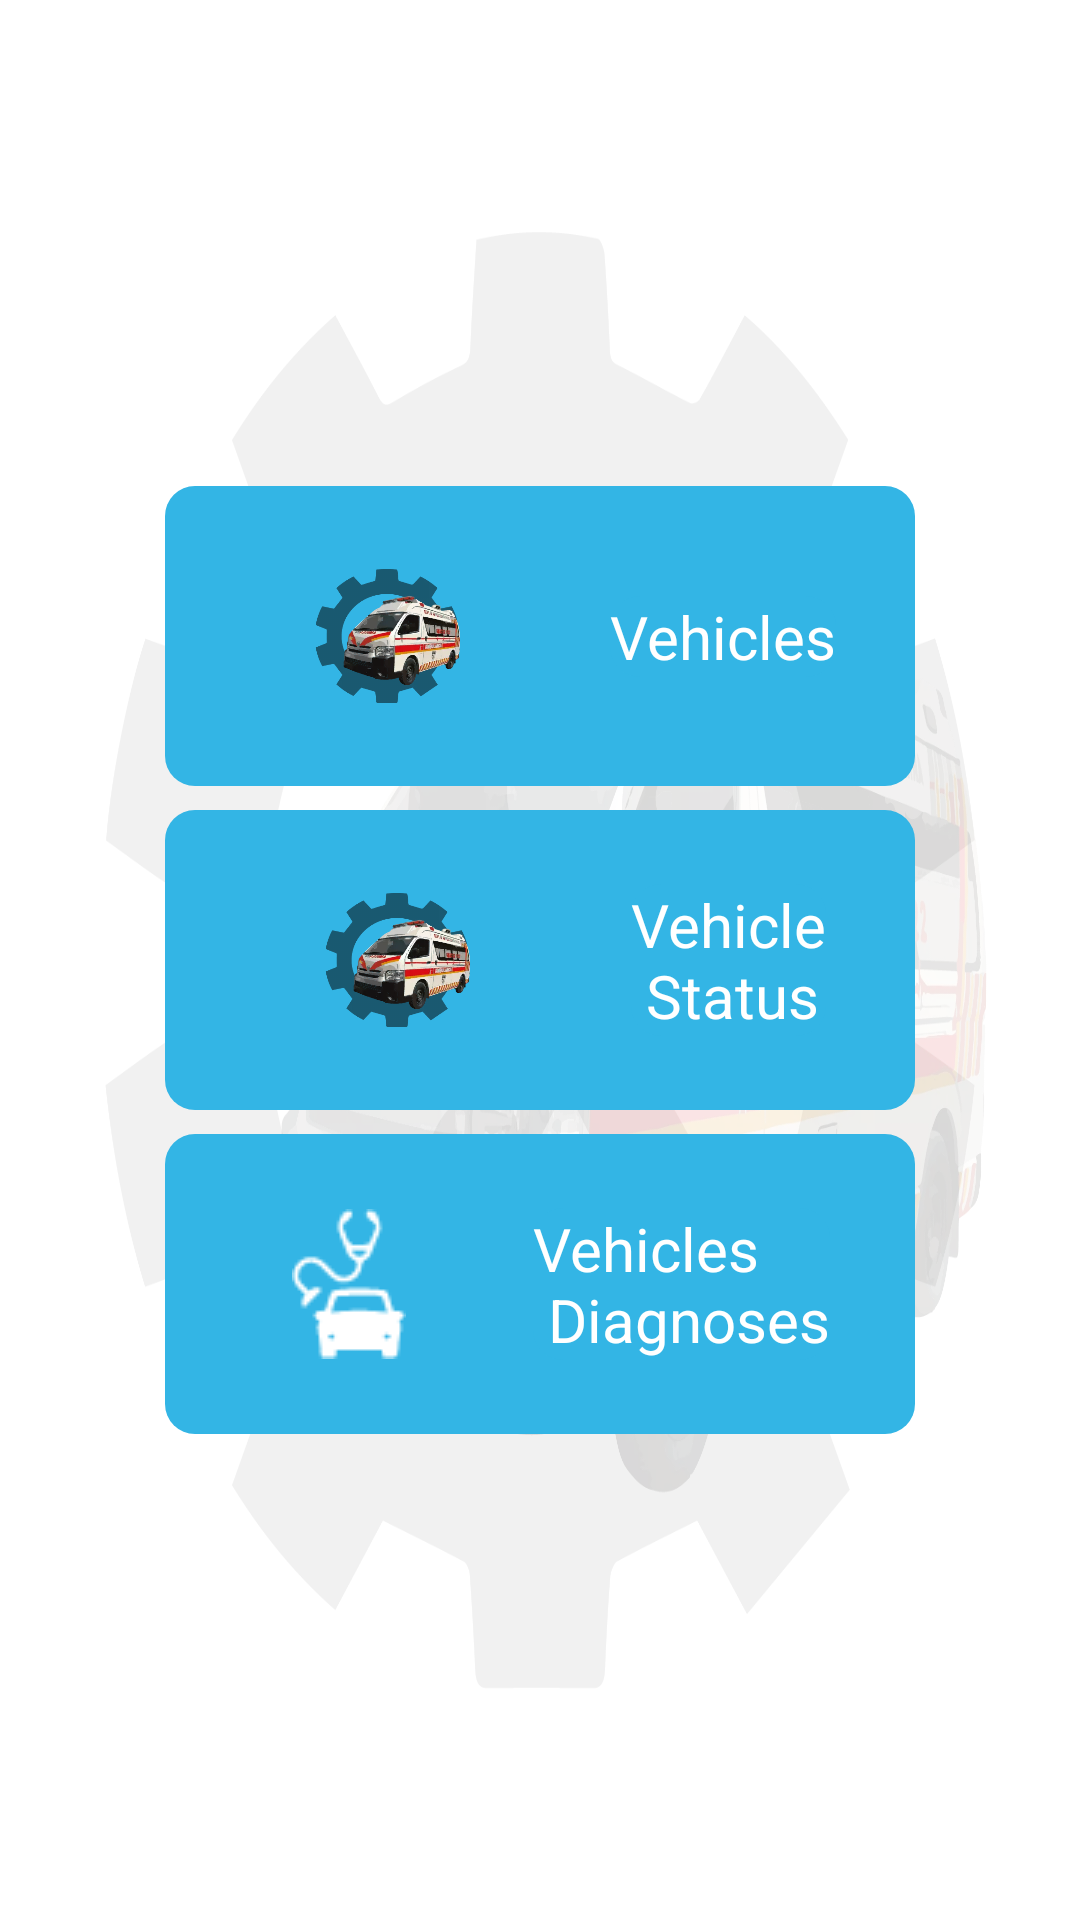

Where to tap for icons on this 1080px x 1920px app screen, as [x,y]:
ambulance: [388,636], [398,960]
vehiclediagnosis: [349,1284]
